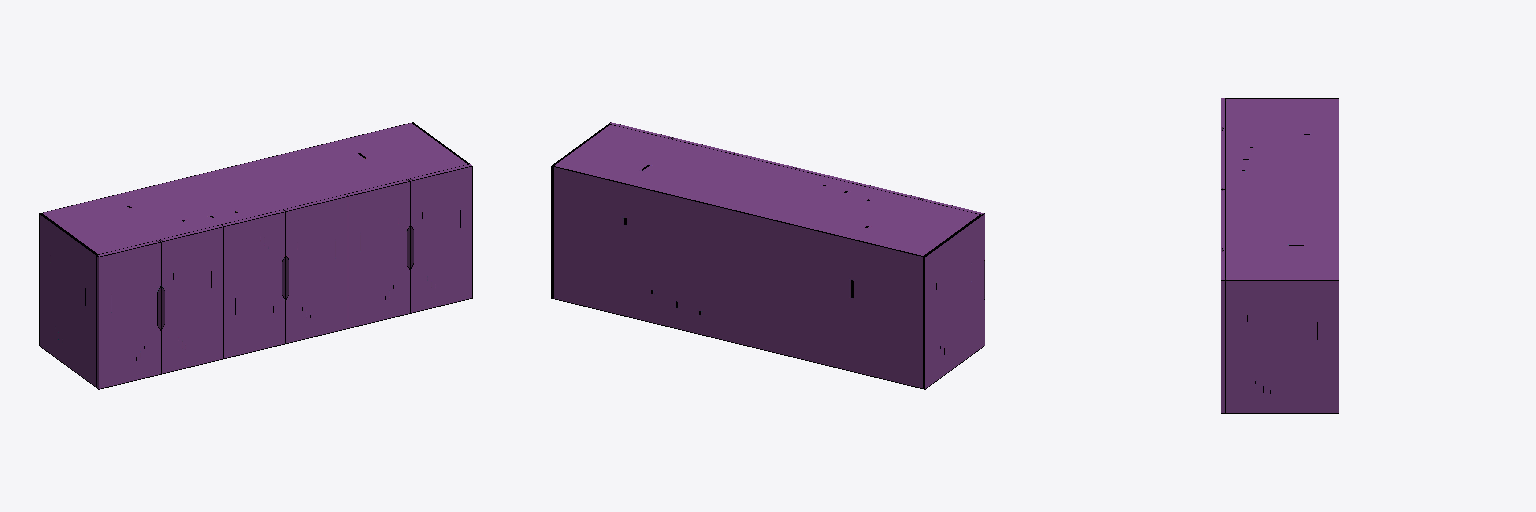
3 renders of one model, left to right at view 1: azimuth 30°, elevation 25°; view 2: azimuth 150°, elevation 25°; view 3: azimuth 270°, elevation 25°, orthographic.
Parts seen in each view (by area): view 1: Box001, Box003, Box007, Box005, Box014, Box006, Box008; view 2: Box001, Box003; view 3: Box001, Box007.
Boxes of the visible parts, x1,y1,x2,y2 form: Box001: [39, 122, 469, 387]; Box003: [97, 240, 160, 389]; Box007: [408, 164, 472, 313]; Box005: [222, 210, 285, 358]; Box014: [160, 225, 222, 374]; Box006: [284, 195, 347, 343]; Box008: [346, 179, 409, 328]; Box001: [551, 124, 981, 389]; Box003: [920, 198, 984, 347]; Box001: [1225, 98, 1338, 413]; Box007: [1221, 250, 1224, 413].
Bounding box in the file's own units: 116 × 39.37 × 31.89.
2 materials, 2 textured.